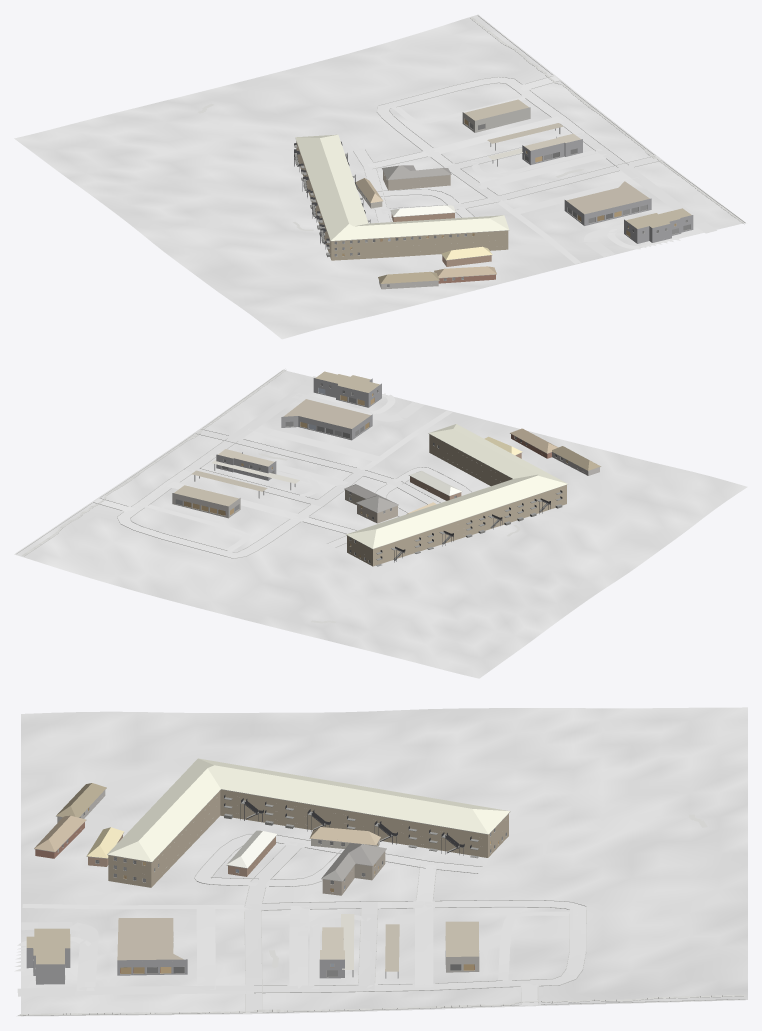
3 views of the same model, one above another, from view 1: azimuth 30°, elevation 25°; view 2: azimuth 150°, elevation 25°; view 3: azimuth 270°, elevation 25° (orthographic). The views are drawn at different scales.
Visible parts, largest first — view 1: ground, concrete, roof, wall, roof_flat, wall_com, curb, detail, walk, glass; view 2: ground, concrete, roof, wall, roof_flat, wall_com, curb, detail, walk, glass, glass_lit; view 3: ground, concrete, roof, wall, roof_flat, curb, wall_com, detail, walk, glass, rail.
Part boxes in pixels (<box>): ground: <box>14,14,745,339</box>; concrete: <box>353,76,716,263</box>; roof: <box>295,134,509,283</box>; wall: <box>296,141,508,283</box>; roof_flat: <box>464,99,691,228</box>; wall_com: <box>462,107,693,243</box>; curb: <box>353,15,745,222</box>; detail: <box>294,118,690,287</box>; walk: <box>198,17,744,230</box>; glass: <box>334,122,690,286</box>; ground: <box>14,370,747,678</box>; concrete: <box>94,376,471,558</box>; roof: <box>344,424,600,548</box>; wall: <box>345,434,566,566</box>; roof_flat: <box>174,371,379,506</box>; wall_com: <box>172,378,381,518</box>; curb: <box>16,369,472,558</box>; detail: <box>175,383,601,566</box>; walk: <box>22,369,520,623</box>; glass: <box>175,383,562,562</box>; glass_lit: <box>184,388,567,557</box>; ground: <box>21,707,747,1016</box>; concrete: <box>14,834,586,1013</box>; roof: <box>34,758,509,881</box>; wall: <box>35,789,508,895</box>; roof_flat: <box>26,914,478,971</box>; curb: <box>18,833,745,1015</box>; wall_com: <box>26,948,479,984</box>; detail: <box>33,788,510,980</box>; walk: <box>19,814,745,1015</box>; glass: <box>57,812,506,976</box>; rail: <box>224,795,471,848</box>.
Size of the model in its own units: 250 by 15.31 by 252.
